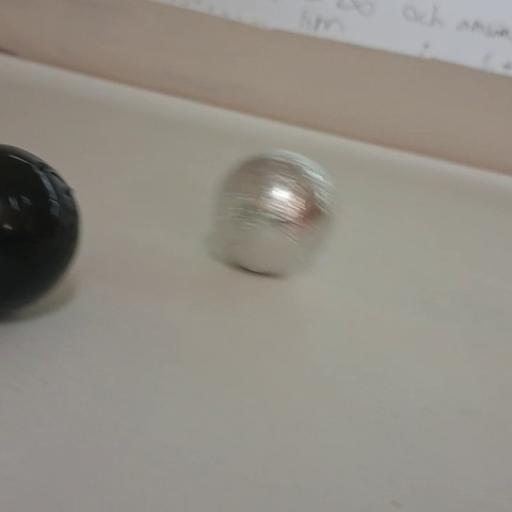alive: (206, 148, 342, 280)
dead: (0, 144, 83, 323)
